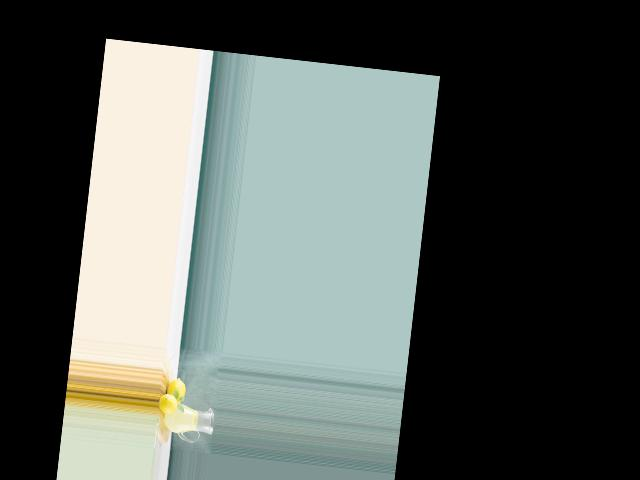lemon: (158, 389, 180, 416)
